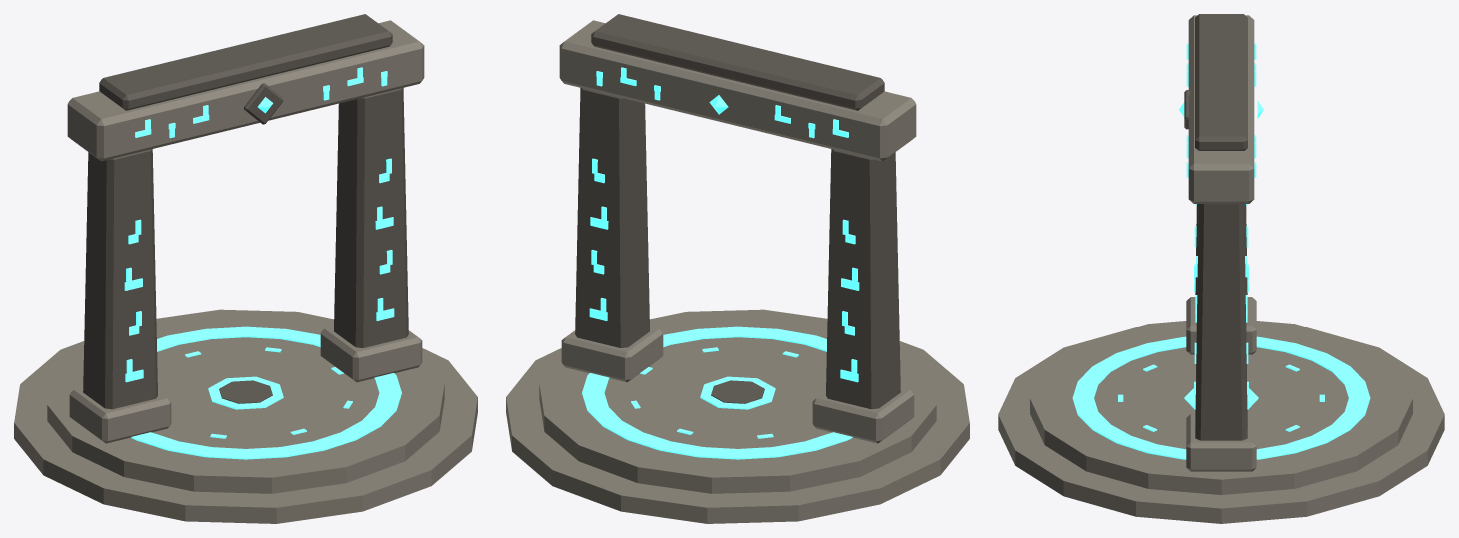
The model's file is env_waypoint.glb.
3 views of the same model, side by side, from view 1: azimuth 30°, elevation 25°; view 2: azimuth 150°, elevation 25°; view 3: azimuth 270°, elevation 25° (orthographic). The views are drawn at different scales.
Parts seen in each view (by area): view 1: env_waypoint; view 2: env_waypoint; view 3: env_waypoint.
Part boxes in pixels (left/top/right/bottom): env_waypoint: left=14, top=14, right=477, bottom=523; env_waypoint: left=506, top=14, right=969, bottom=523; env_waypoint: left=998, top=14, right=1444, bottom=523.
Size of the model in its own units: 4.2 by 3.68 by 4.2.
